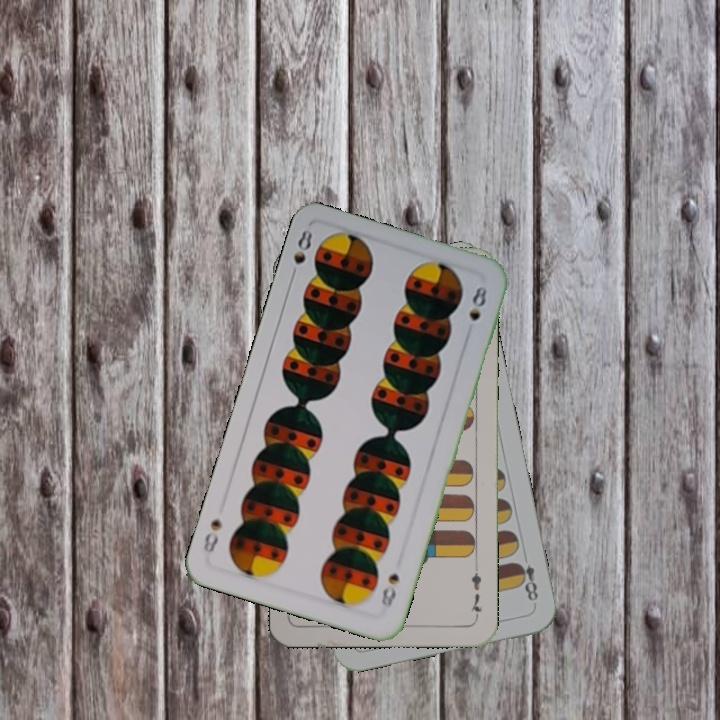E7: (466, 569, 485, 621)
E8: (512, 558, 541, 604)
S8: (286, 225, 315, 283), (377, 569, 402, 611)
